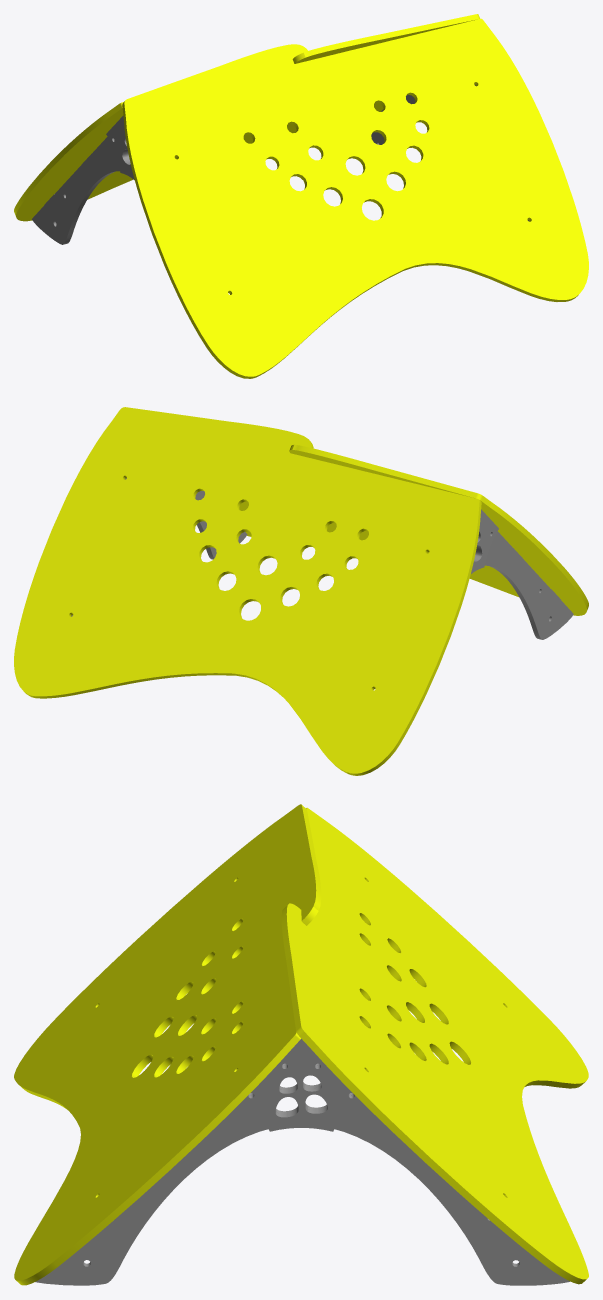
3 renders of one model, top to bottom at view 1: azimuth 30°, elevation 25°; view 2: azimuth 150°, elevation 25°; view 3: azimuth 270°, elevation 25°, orthographic. The views are drawn at different scales.
Parts seen in each view (by area): view 1: Body5 (×2), Body1, Bryła1; view 2: Body5 (×2), Body1, Bryła1; view 3: Body5 (×2), Body1 (×2), Bryła1.
Part boxes in pixels (bbox=[...]): Body5 (×2): bbox=[14, 14, 588, 378]; Body1: bbox=[32, 137, 129, 244]; Bryła1: bbox=[106, 116, 134, 180]; Body5 (×2): bbox=[14, 407, 588, 775]; Body1: bbox=[474, 531, 573, 639]; Bryła1: bbox=[471, 509, 498, 573]; Body5 (×2): bbox=[14, 804, 588, 1285]; Body1 (×2): bbox=[35, 1063, 569, 1285]; Bryła1: bbox=[243, 1038, 359, 1131].
Size of the model in its own units: 0.9729 by 0.5029 by 0.9384.
